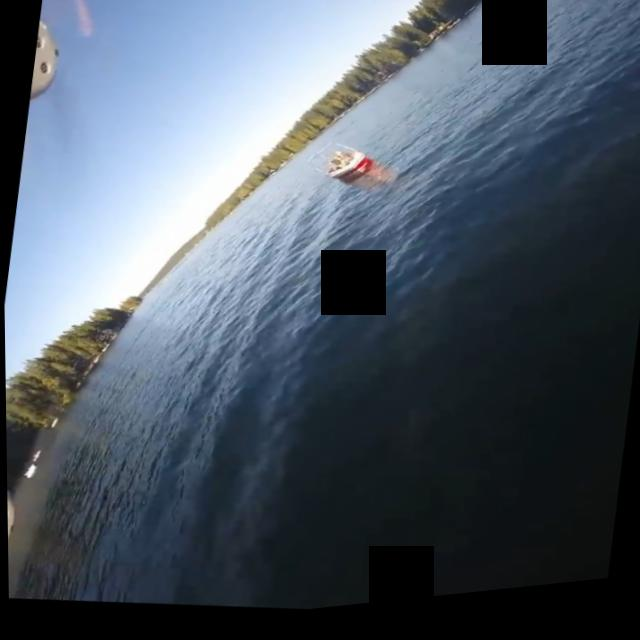Vehicle: (299, 135, 374, 197)
